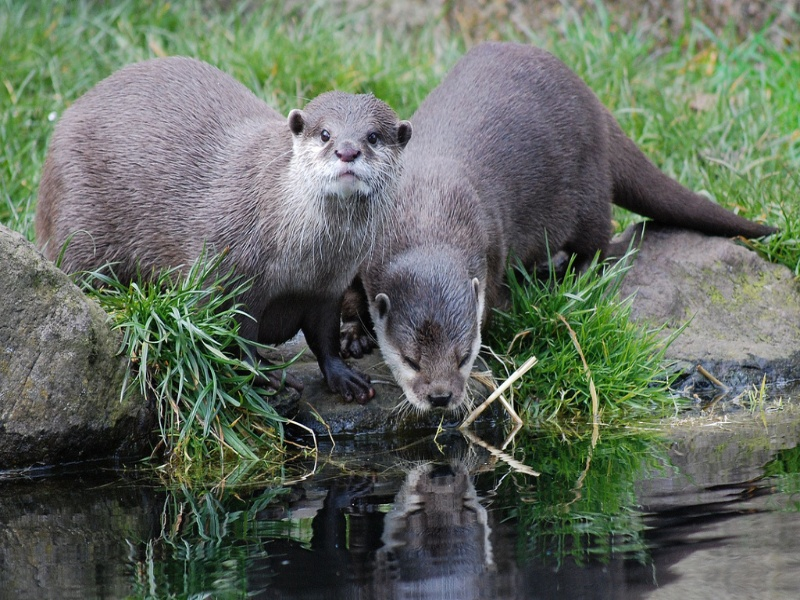minkish: (362, 39, 787, 426), (36, 55, 412, 430)
